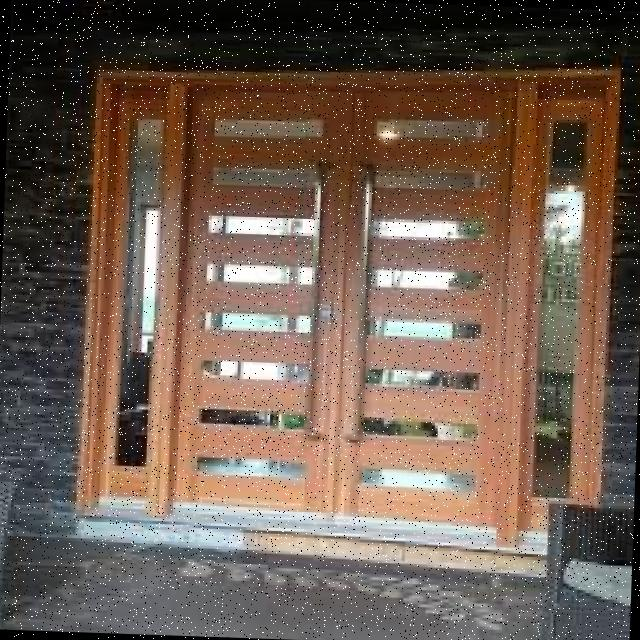Door: (161, 64, 525, 528)
